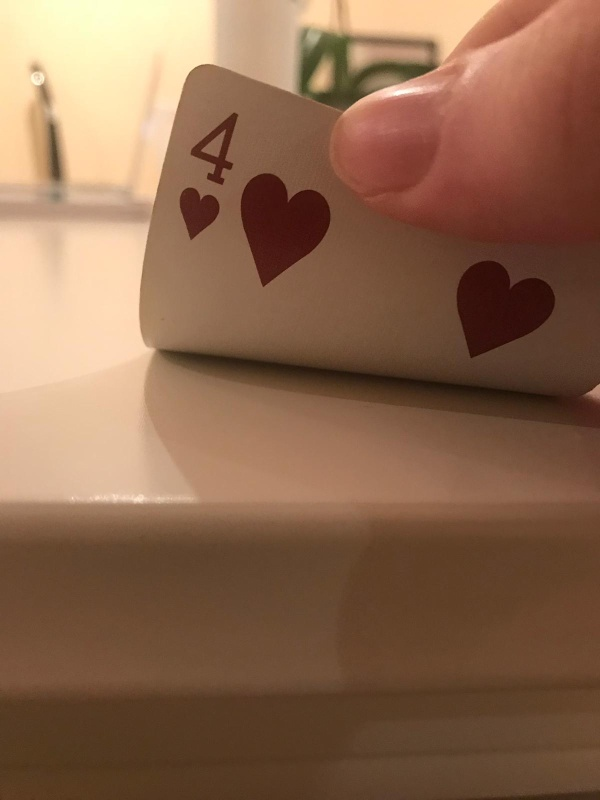H4: (177, 103, 241, 254)
